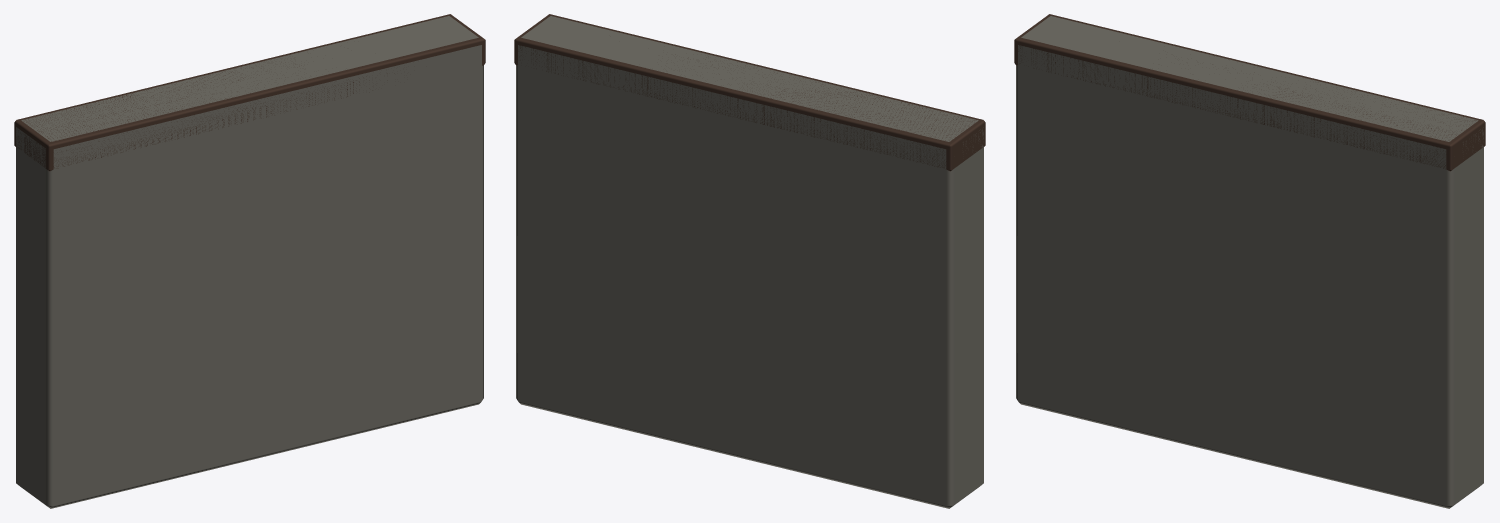
File: village-stair-side.4da7ce93.glb
3 views of the same model, side by side, from view 1: azimuth 30°, elevation 25°; view 2: azimuth 150°, elevation 25°; view 3: azimuth 330°, elevation 25° (orthographic).
Visible parts, largest first — view 1: body; view 2: body; view 3: body.
Part boxes in pixels (<box>): body: <box>14,14,485,508</box>; body: <box>514,14,985,508</box>; body: <box>1014,14,1485,508</box>.
Size of the model in its own units: 1 by 0.8 by 0.14.
